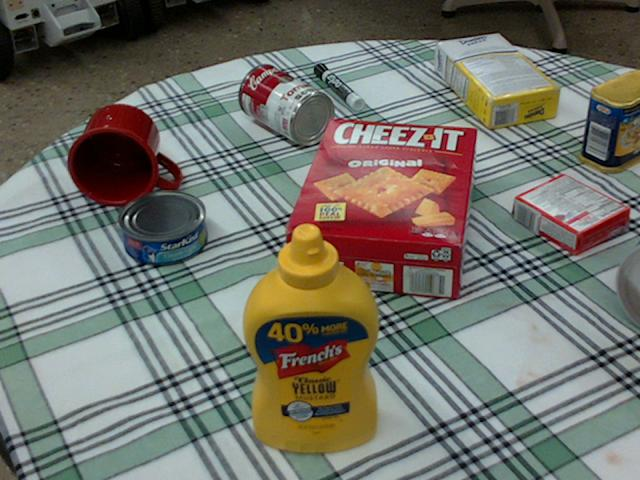cracker_box: (284, 119, 481, 298)
gelatin_box: (512, 173, 627, 252)
large_marker: (313, 62, 363, 109)
master_chef_can: (618, 243, 639, 325)
mug: (67, 103, 179, 205)
mustard_bottle: (243, 222, 379, 451)
potted_meat_can: (576, 70, 639, 173)
sugar_box: (435, 34, 562, 128)
tomato_soup_can: (238, 62, 334, 143)
tuna_fish_can: (116, 190, 205, 264)
